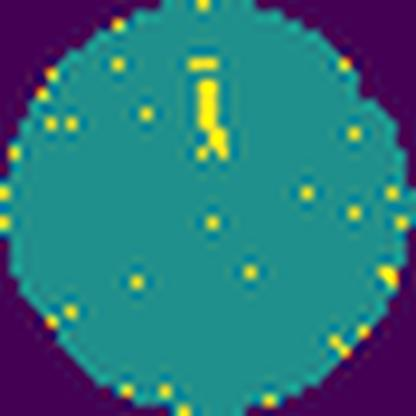Edge-Loc: (192, 75, 234, 165)
